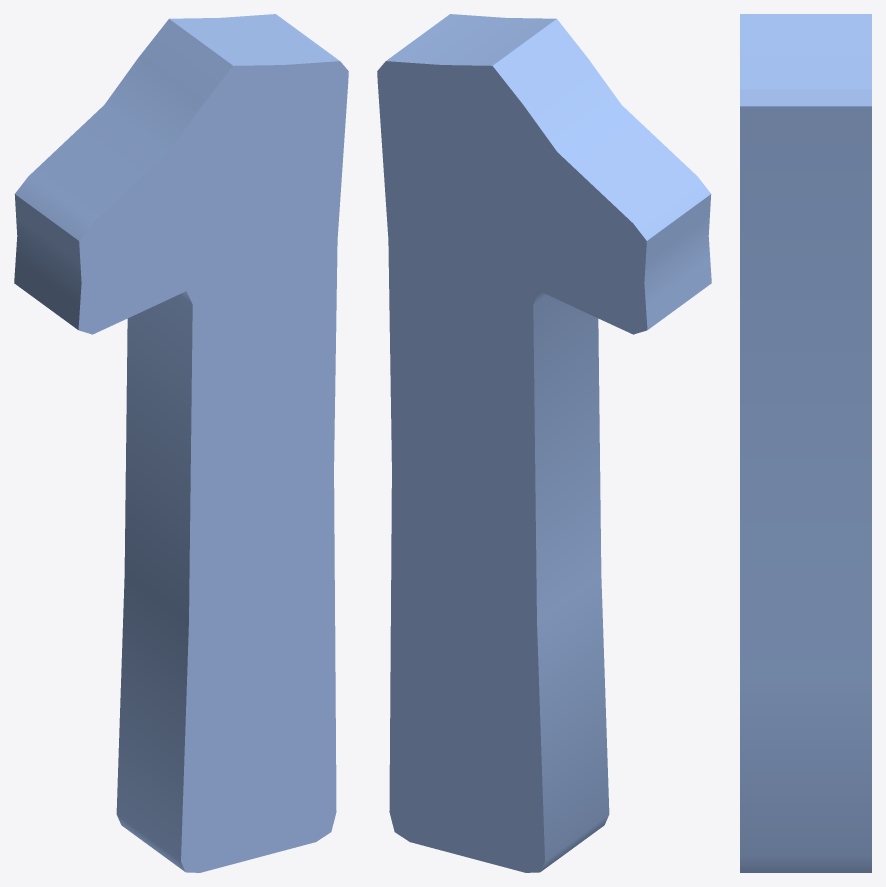
File: original-17.obj
3 renders of one model, left to right at view 1: azimuth 30°, elevation 25°; view 2: azimuth 150°, elevation 25°; view 3: azimuth 270°, elevation 25°, orthographic. The views are drawn at different scales.
Visible parts, largest first — view 1: mesh65/mesh65-geometry#mesh65-geometry; view 2: mesh65/mesh65-geometry#mesh65-geometry; view 3: mesh65/mesh65-geometry#mesh65-geometry.
Boxes of the visible parts, left/top/right/bottom form: mesh65/mesh65-geometry#mesh65-geometry: left=14, top=14, right=348, bottom=872; mesh65/mesh65-geometry#mesh65-geometry: left=377, top=14, right=711, bottom=872; mesh65/mesh65-geometry#mesh65-geometry: left=740, top=14, right=871, bottom=872.
Size of the model in its own units: 0.0294 by 0.0831 by 0.0121.
